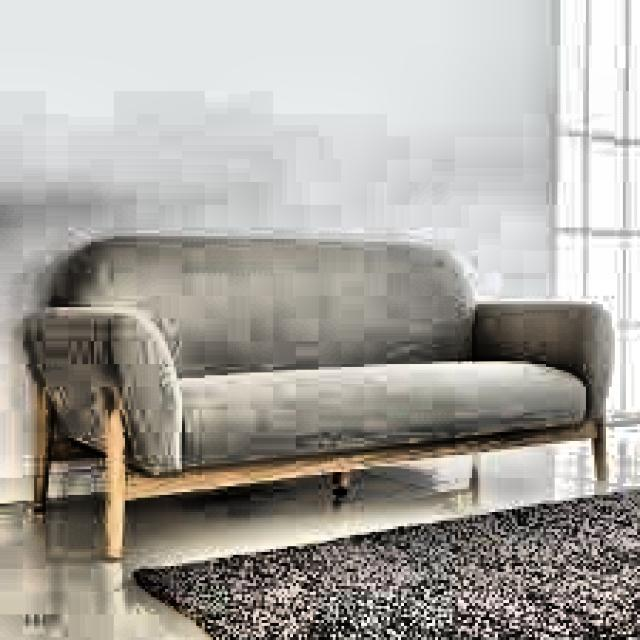sofa: (28, 225, 606, 492)
